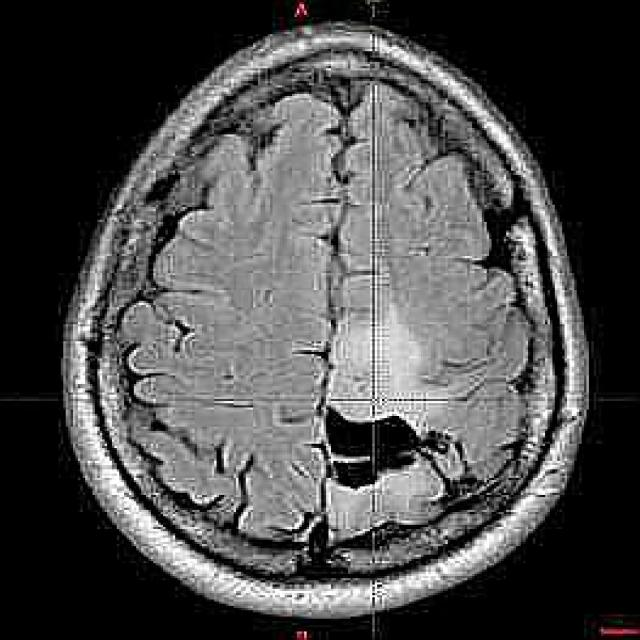Tumor-Cell: (317, 299, 454, 529)
